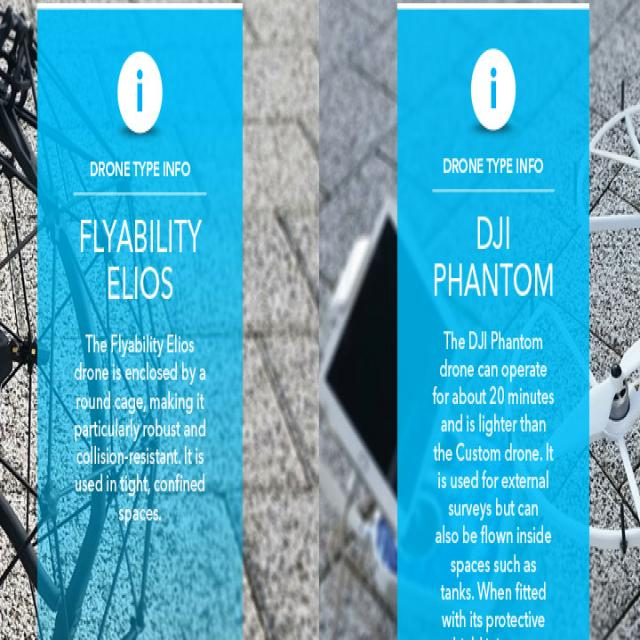drone: (519, 98, 640, 640)
